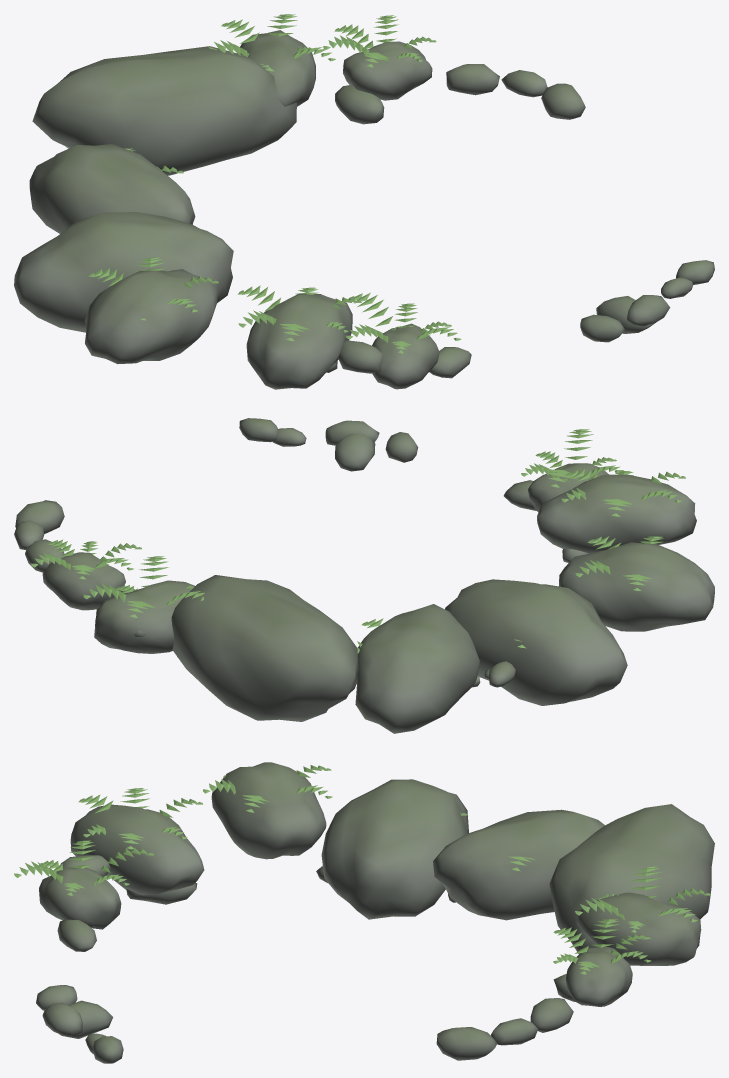
The model's file is glade-shore.glb.
The picture shows the model from 3 angles, top to bottom: view 1: azimuth 30°, elevation 25°; view 2: azimuth 150°, elevation 25°; view 3: azimuth 270°, elevation 25°; orthographic projection. The views are drawn at different scales.
Visible parts, largest first — view 1: Mossy_Shore_Rocks, Shore_Ferns; view 2: Mossy_Shore_Rocks, Shore_Ferns; view 3: Mossy_Shore_Rocks, Shore_Ferns.
Boxes of the visible parts, x1,y1,x2,y2 form: Mossy_Shore_Rocks: [14, 30, 714, 389]; Shore_Ferns: [88, 14, 461, 353]; Mossy_Shore_Rocks: [14, 418, 714, 733]; Shore_Ferns: [31, 429, 689, 653]; Mossy_Shore_Rocks: [36, 762, 714, 1063]; Shore_Ferns: [14, 765, 710, 974].
Size of the model in its own units: 5.59 by 1.27 by 5.68.
